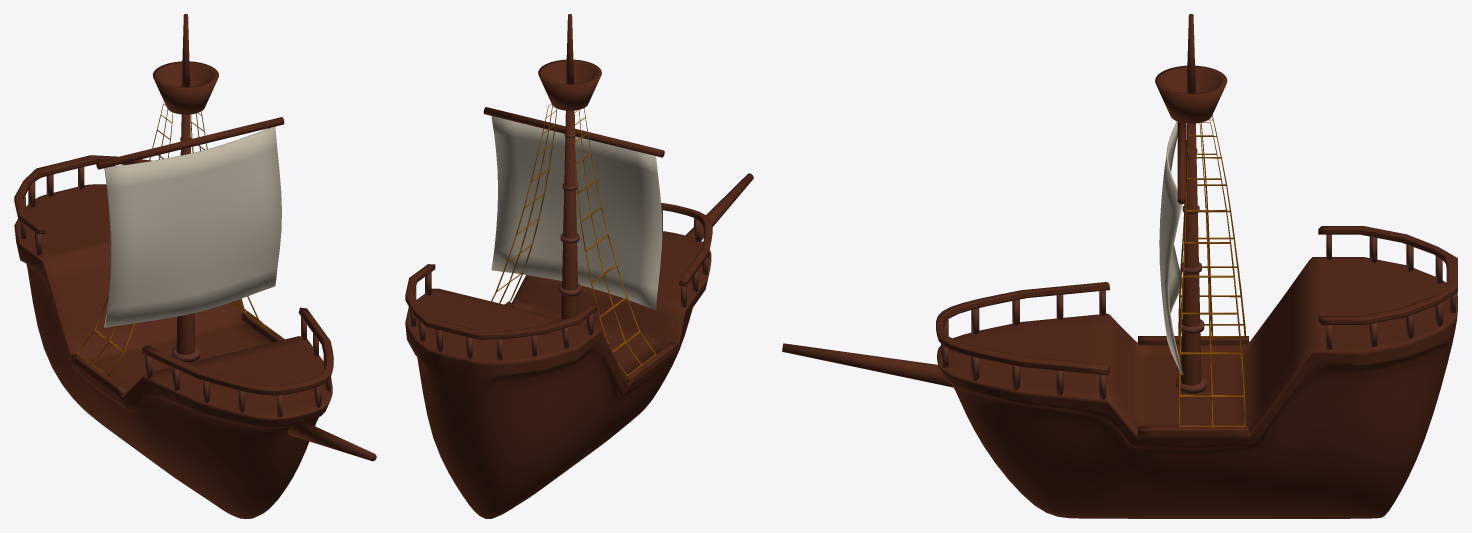
The model's file is boat.glb.
3 renders of one model, left to right at view 1: azimuth 30°, elevation 25°; view 2: azimuth 150°, elevation 25°; view 3: azimuth 270°, elevation 25°, orthographic. The views are drawn at different scales.
Parts seen in each view (by area): view 1: British Ship; view 2: British Ship; view 3: British Ship.
Part boxes in pixels (x1,y1,x2,y2): British Ship: (14,14,376,518); British Ship: (405,14,753,518); British Ship: (782,14,1457,518).
Bounding box in the file's own units: 6.09 × 14.52 × 17.74.
